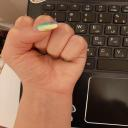Fist: (0, 13, 92, 95)
